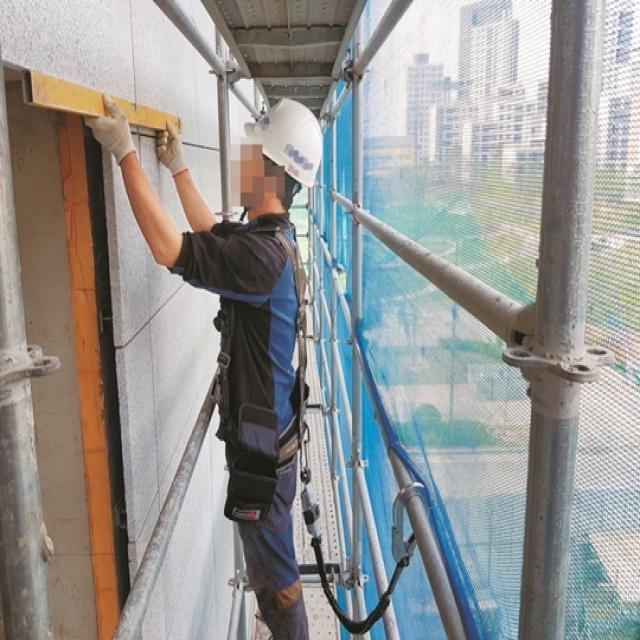Arnes_seguridad: (217, 206, 318, 540)
